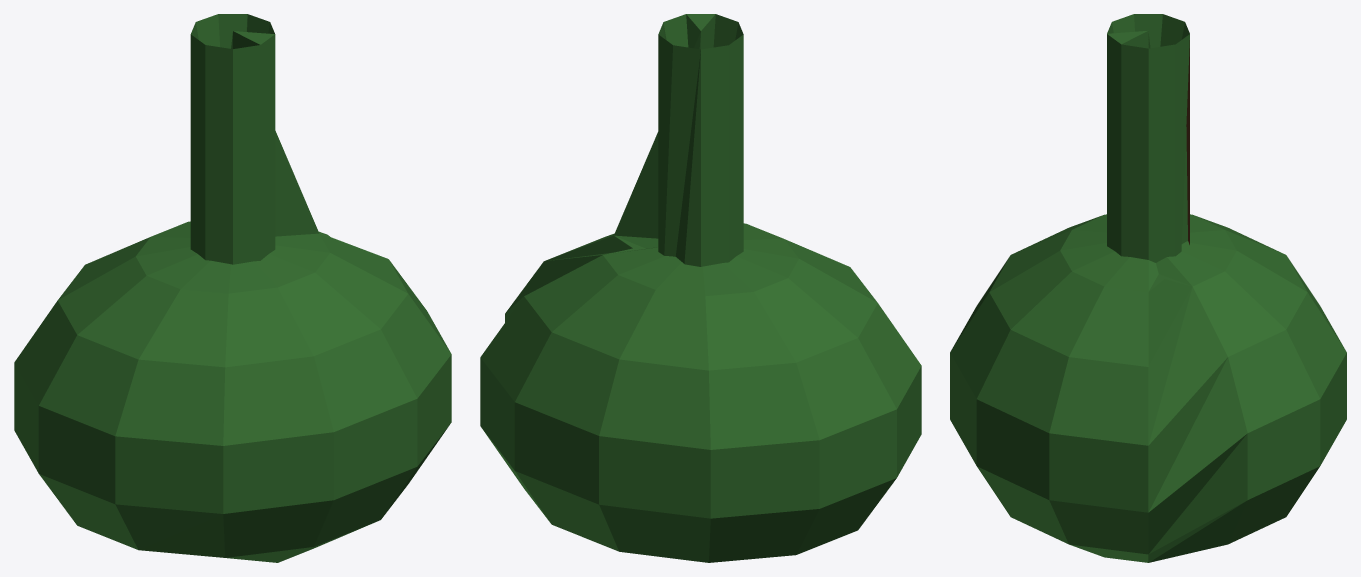
The model's file is tree_willow_lowpoly.obj.
The picture shows the model from 3 angles, left to right: view 1: azimuth 30°, elevation 25°; view 2: azimuth 150°, elevation 25°; view 3: azimuth 270°, elevation 25°; orthographic projection. The views are drawn at different scales.
Visible parts, largest first — view 1: crown, hanging_left; view 2: crown, hanging_left; view 3: crown, hanging_left, trunk.
Part boxes in pixels (x1,y1,x2,y2): crown: (14, 14, 451, 562); hanging_left: (190, 14, 275, 292); crown: (480, 14, 921, 562); hanging_left: (605, 14, 780, 266); crown: (950, 14, 1346, 562); hanging_left: (1061, 22, 1190, 291); trunk: (1186, 40, 1189, 244).
Size of the model in its own units: 2.92 by 3.59 by 2.63.
